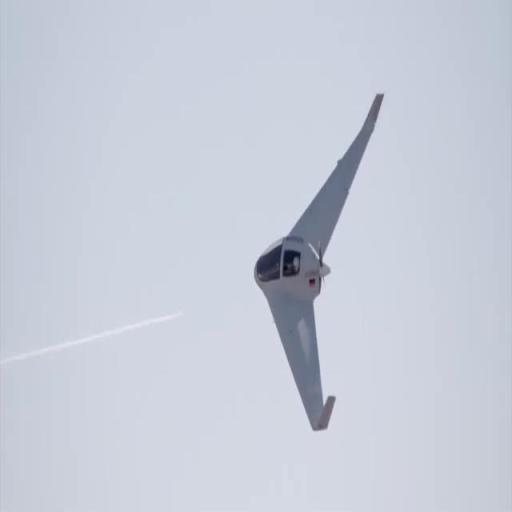uav: (249, 80, 389, 450)
